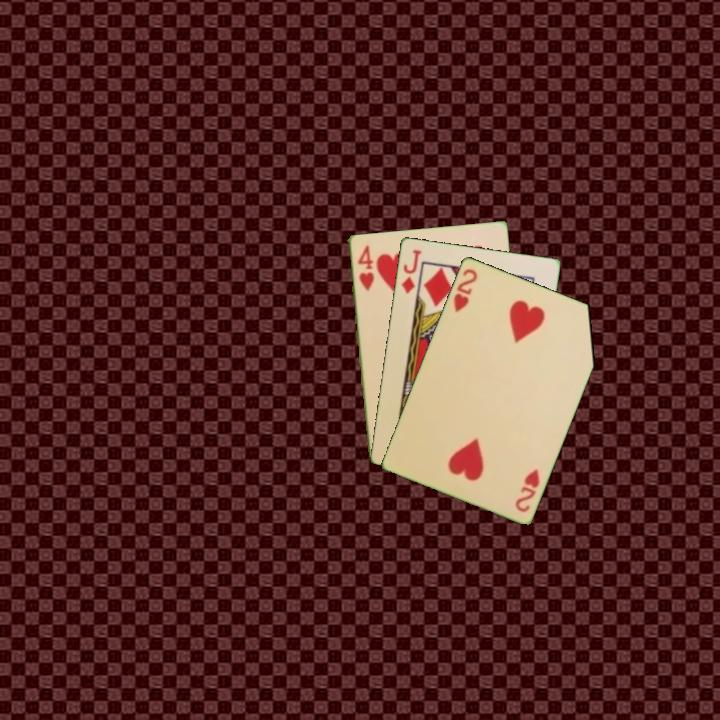2h: (450, 265, 480, 315), (512, 465, 542, 515)
4h: (354, 241, 376, 294)
Jd: (398, 246, 424, 296)
